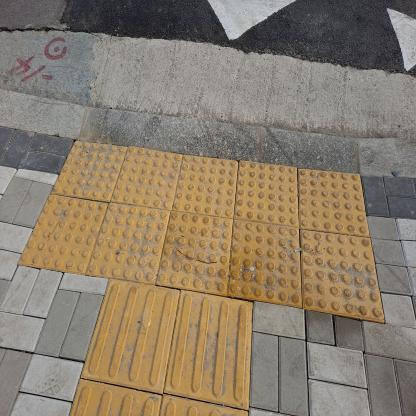podotacti: (15, 128, 389, 415)
